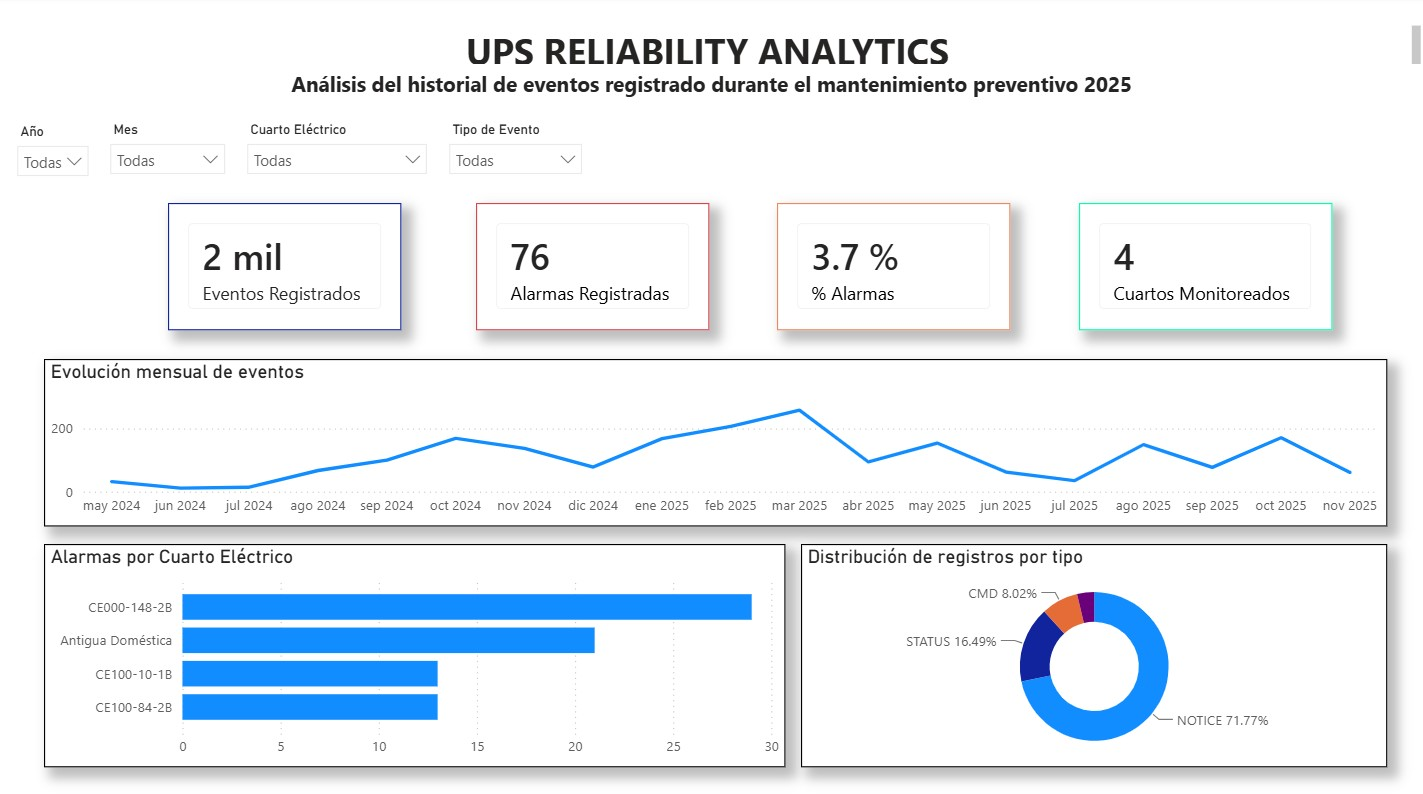

The page's visual inventory and layout, read from the dashboard file:
{"tool":"powerbi","page":{"name":"Resumen Ejecutivo","canvas":[1280,720],"ordinal":0},"visuals":[{"type":"slicer","fields":{"Values":["FactEventos.CuartoElectrico"]},"box":[214,107,180.9,53.5],"z":0},{"type":"cardVisual","fields":{"Data":["FactEventos.TotalAlarmas"]},"box":[428.9,184.8,209.1,113.8],"z":1000},{"type":"lineChart","title":"Evolución mensual de eventos","fields":{"Category":["DimCalendario.MesAño"],"Y":["FactEventos.Total Eventos"]},"box":[41.8,323.9,1203.2,149.8],"z":2000},{"type":"barChart","title":"Alarmas por Cuarto Eléctrico","fields":{"Y":["FactEventos.TotalAlarmas"],"Category":["DimUPS.CuartoElectrico"]},"box":[41.8,490.2,664.3,200.4],"z":3000},{"type":"donutChart","title":"Distribución de registros por tipo","fields":{"Category":["FactEventos.Tipo"],"Y":["FactEventos.Total Eventos"]},"box":[719.8,490.2,525.2,200.4],"z":4000},{"type":"cardVisual","fields":{"Data":["FactEventos.% Alarmas"]},"box":[698.4,184.8,209.1,113.8],"z":5000},{"type":"cardVisual","fields":{"Data":["FactEventos.Cuartos Monitoreados"]},"box":[968.8,184.8,226.6,113.8],"z":6000},{"type":"textbox","box":[0,20.6,1279.7,50.1],"z":7000},{"type":"textbox","box":[0,60.3,1280,46.7],"z":8000},{"type":"slicer","fields":{"Values":["DimCalendario.Año"]},"box":[7.8,107.9,83.6,53.5],"z":9000},{"type":"slicer","fields":{"Values":["DimCalendario.Mes"]},"box":[91.4,107,122.6,53.5],"z":10000},{"type":"slicer","fields":{"Values":["FactEventos.Tipo"]},"box":[394.9,107,139.1,53.5],"z":11000},{"type":"cardVisual","fields":{"Data":["FactEventos.Total Eventos"]},"box":[152.7,184.8,209.1,113.8],"z":12000}]}

Visuals, with their boxes in screenshot pixels (x1, y1, x2, y2), scaled from the page's 1280x720 canvas onto the 1423x794 screenshot:
slicer - FactEventos.CuartoElectrico: crop(238, 118, 439, 177)
cardVisual - FactEventos.TotalAlarmas: crop(477, 204, 709, 329)
"Evolución mensual de eventos" lineChart: crop(46, 357, 1384, 522)
"Alarmas por Cuarto Eléctrico" barChart: crop(46, 541, 785, 762)
"Distribución de registros por tipo" donutChart: crop(800, 541, 1384, 762)
cardVisual - FactEventos.% Alarmas: crop(776, 204, 1009, 329)
cardVisual - FactEventos.Cuartos Monitoreados: crop(1077, 204, 1329, 329)
textbox: crop(0, 23, 1422, 78)
textbox: crop(0, 66, 1422, 118)
slicer - DimCalendario.Año: crop(9, 119, 102, 178)
slicer - DimCalendario.Mes: crop(102, 118, 238, 177)
slicer - FactEventos.Tipo: crop(439, 118, 594, 177)
cardVisual - FactEventos.Total Eventos: crop(170, 204, 402, 329)
